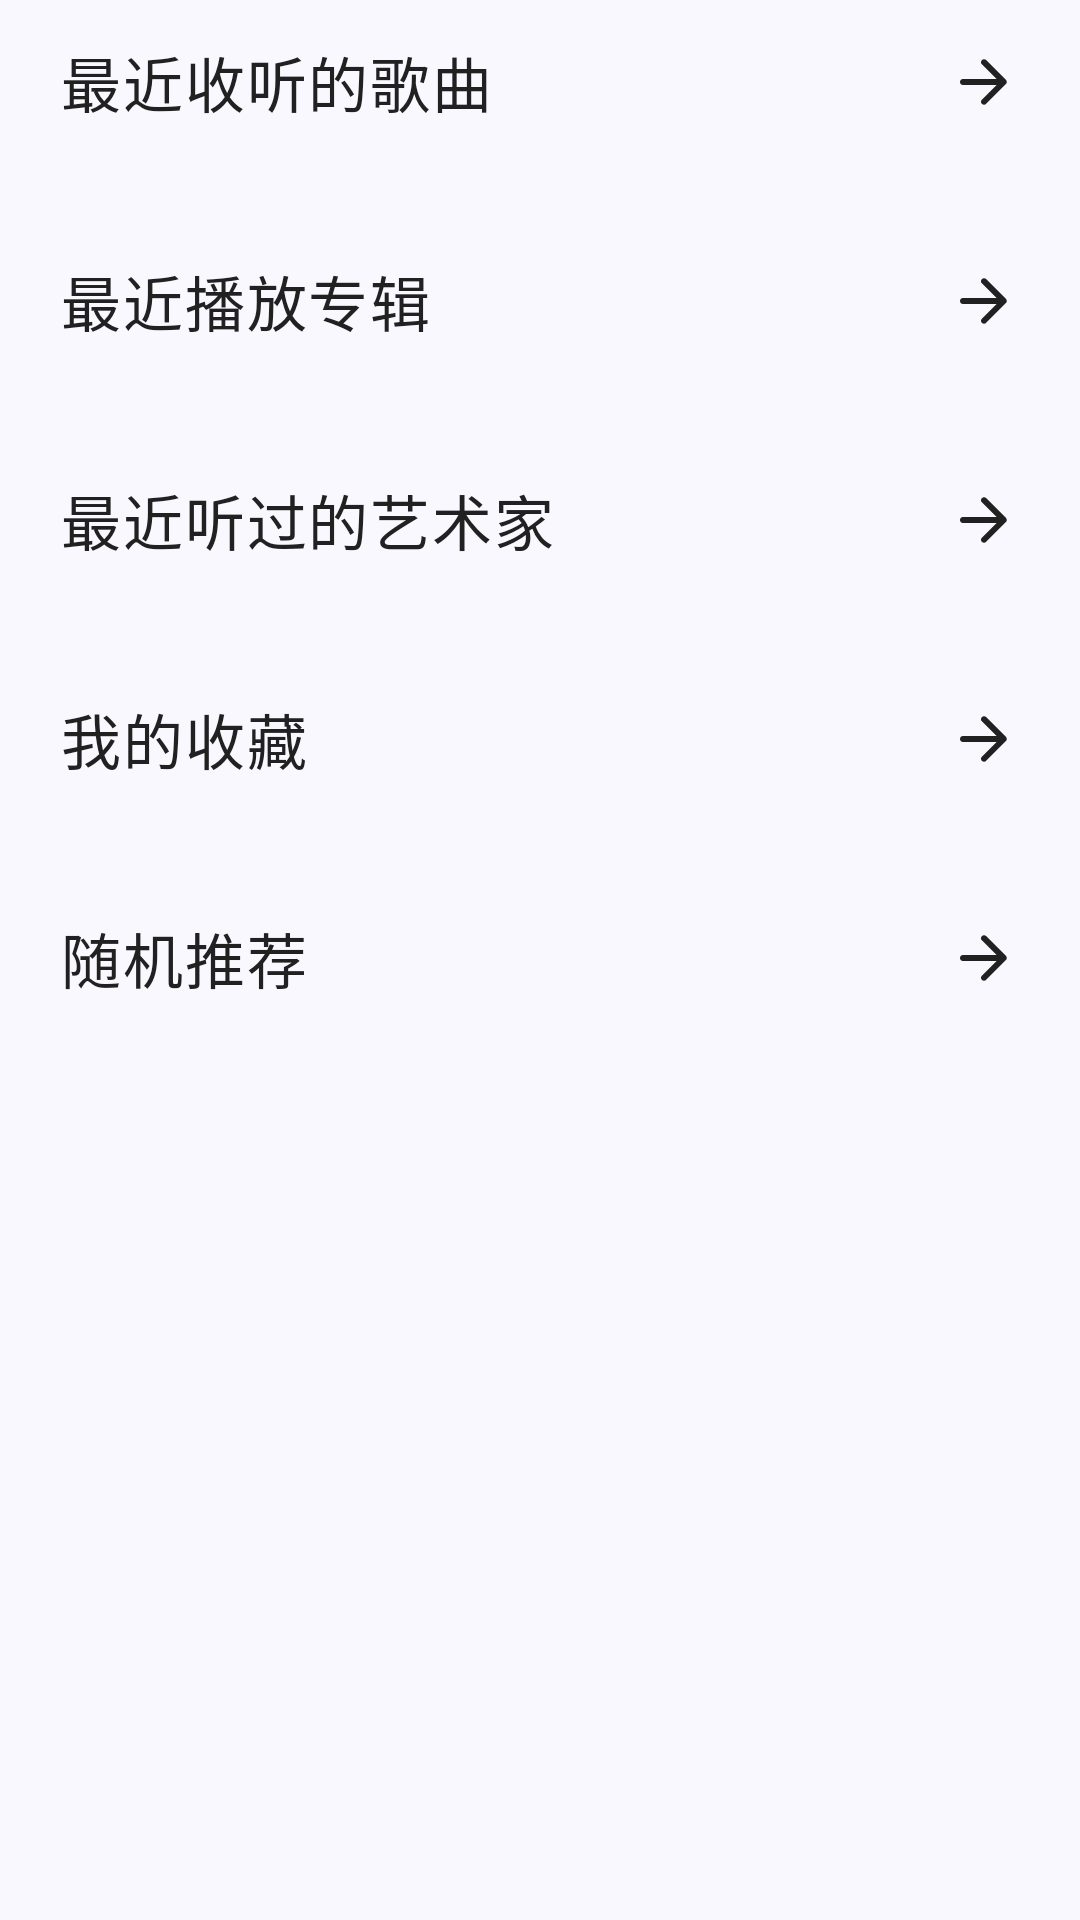

Screen size 1080×1920. Icon name, then its center in pixels as (x,y):
arrow right: (983,82), (983,301), (983,520), (983,739), (983,958)
